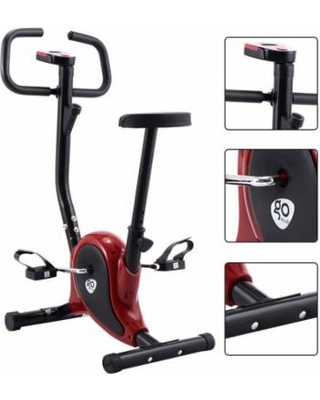gym_bike: (2, 24, 220, 372)
